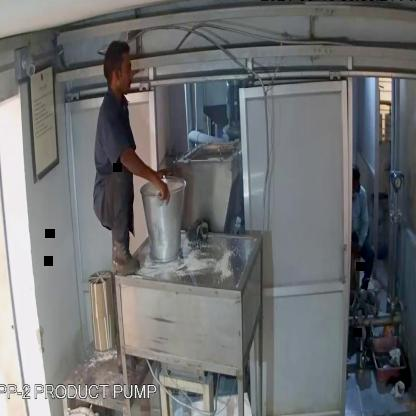no_glove: (116, 132, 174, 206)
